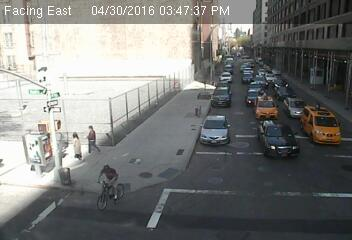neg: (87, 161, 125, 212), (261, 116, 286, 149), (208, 114, 231, 146), (33, 58, 55, 88), (175, 80, 191, 102), (34, 117, 50, 139), (140, 88, 155, 108), (306, 63, 320, 82), (268, 76, 282, 95), (44, 93, 58, 112), (280, 22, 293, 39), (243, 71, 254, 85), (221, 71, 232, 85)
pos: (64, 131, 86, 161), (81, 124, 103, 153)
